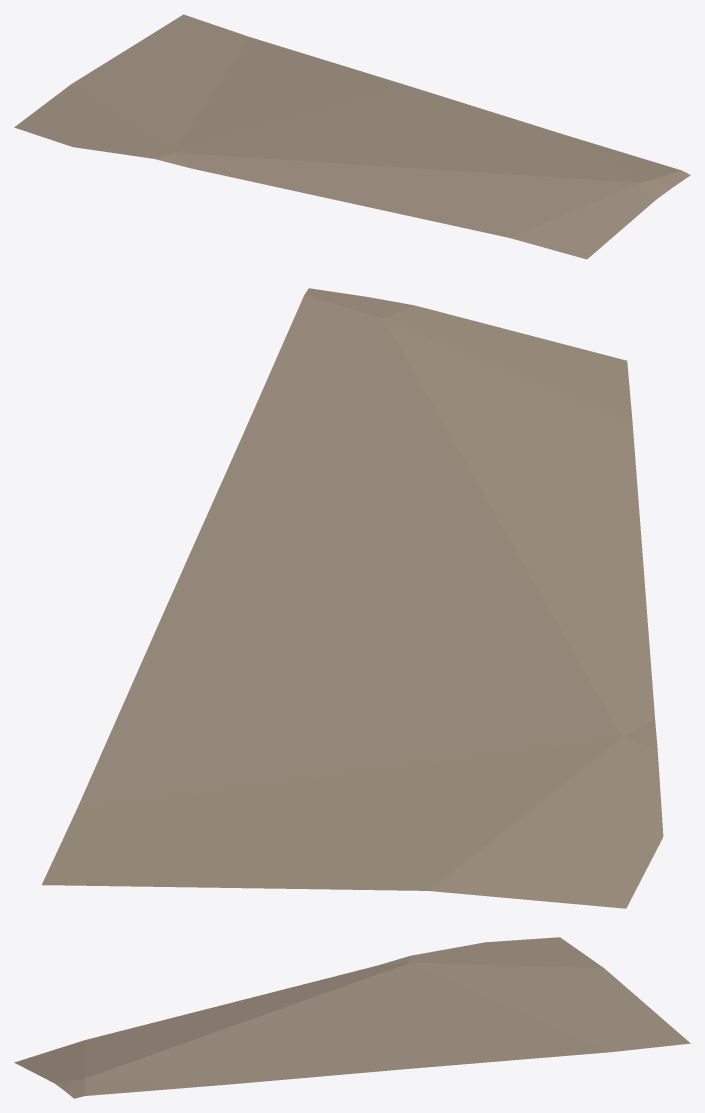
The model's file is farm_-14_-19_soil.glb.
3 views of the same model, one above another, from view 1: azimuth 30°, elevation 25°; view 2: azimuth 150°, elevation 25°; view 3: azimuth 270°, elevation 25° (orthographic). The views are drawn at different scales.
Visible parts, largest first — view 1: geometry_0; view 2: geometry_0; view 3: geometry_0.
Boxes of the visible parts, <box> form: geometry_0: <box>14,14,690,259</box>; geometry_0: <box>42,288,663,908</box>; geometry_0: <box>14,937,690,1098</box>.
Bounding box in the file's own units: 114 × 9.67 × 166.
